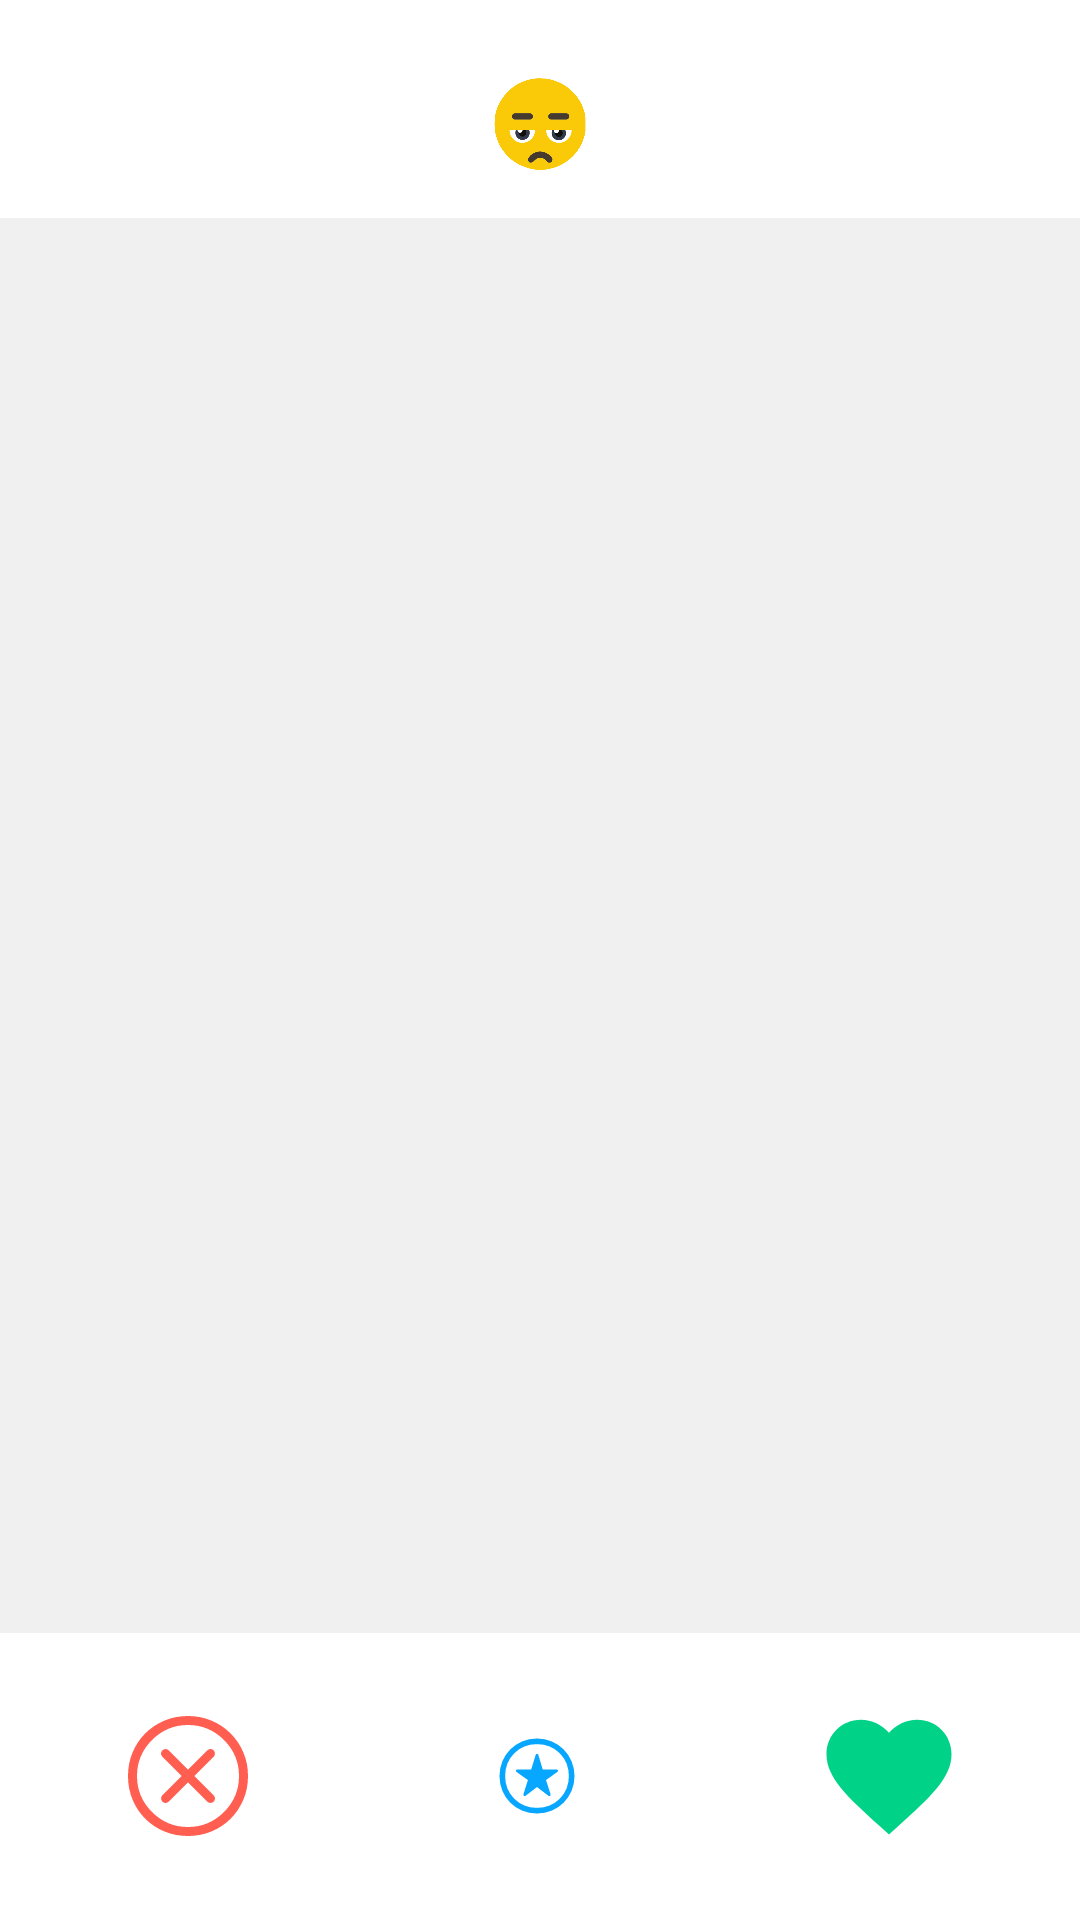

Screen size 1080 x 1920. Icon name, then its box in pixels as box=[x1, y1, x2, y2]:
cancelpx: box=[128, 1716, 248, 1836]
face: box=[494, 78, 586, 170]
favorite: box=[826, 1719, 952, 1835]
stars: box=[499, 1738, 575, 1814]
